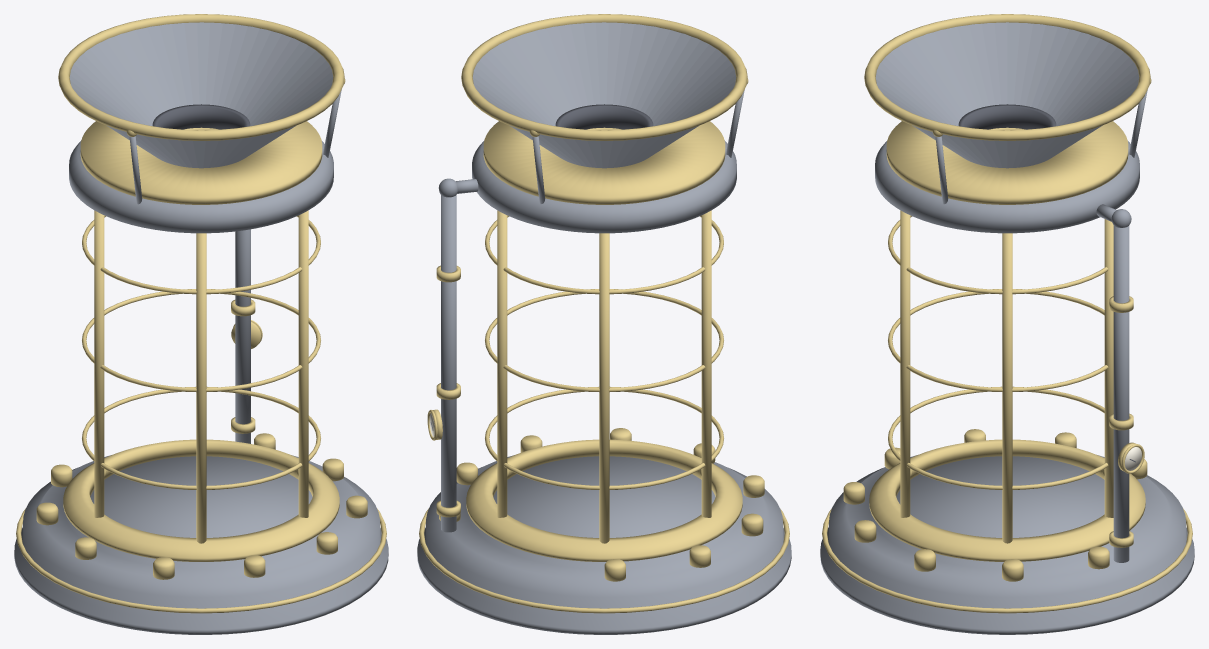
File: reactor.glb
3 views of the same model, side by side, from view 1: azimuth 30°, elevation 25°; view 2: azimuth 150°, elevation 25°; view 3: azimuth 270°, elevation 25° (orthographic).
Visible parts, largest first — view 1: reactor; view 2: reactor; view 3: reactor.
Boxes of the visible parts, x1=… form: reactor: x1=14, y1=14, x2=388, y2=634; reactor: x1=417, y1=14, x2=791, y2=634; reactor: x1=820, y1=14, x2=1194, y2=634.
Bounding box in the file's own units: 2.6 × 3.7 × 2.6.
